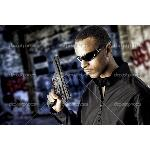Pistol: (46, 56, 74, 108)
